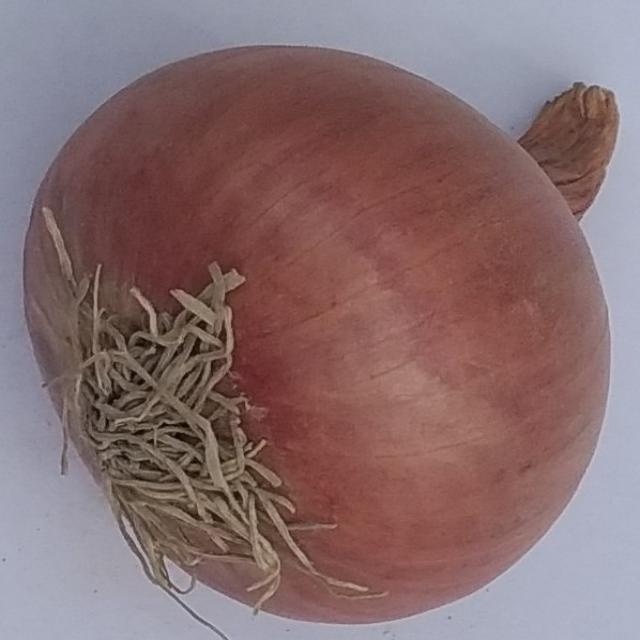onion: (17, 42, 623, 625)
